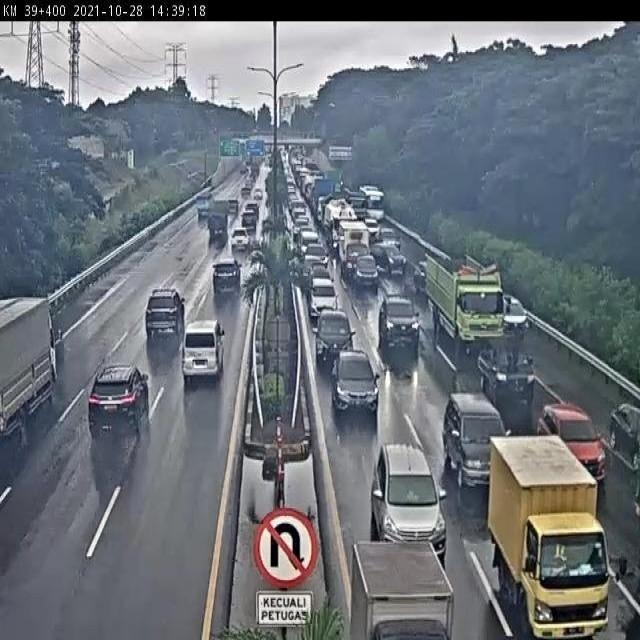car: (370, 443, 449, 561), (445, 396, 518, 484), (536, 400, 606, 483), (88, 365, 146, 435), (476, 329, 533, 400), (329, 342, 377, 402), (183, 321, 223, 379), (376, 297, 421, 348), (609, 401, 640, 472), (315, 306, 352, 362), (143, 290, 185, 338), (308, 276, 337, 321), (501, 290, 530, 334), (209, 263, 241, 300), (375, 244, 406, 272), (354, 255, 379, 285), (411, 256, 434, 287), (303, 253, 324, 280), (307, 264, 331, 285), (305, 244, 328, 265), (229, 229, 248, 252)
mid truck: (422, 251, 502, 348), (1, 295, 55, 433)
small truck: (486, 436, 610, 640), (350, 541, 456, 640), (340, 224, 370, 271)
